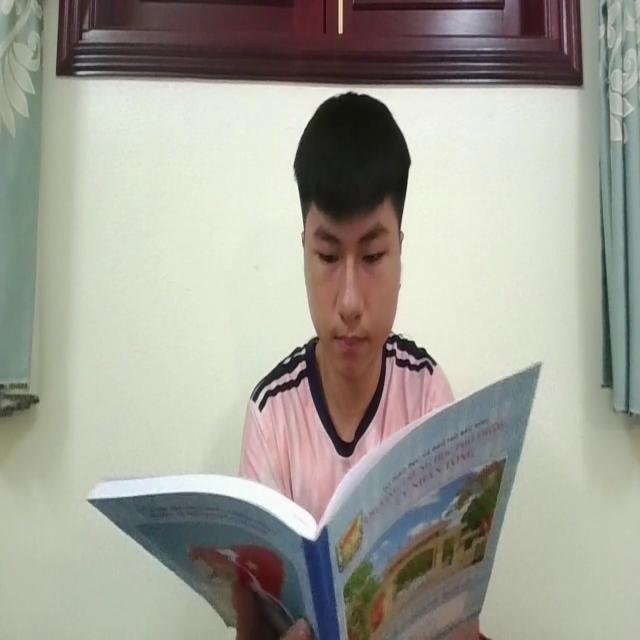book: (91, 359, 541, 640)
student: (236, 87, 457, 482)
